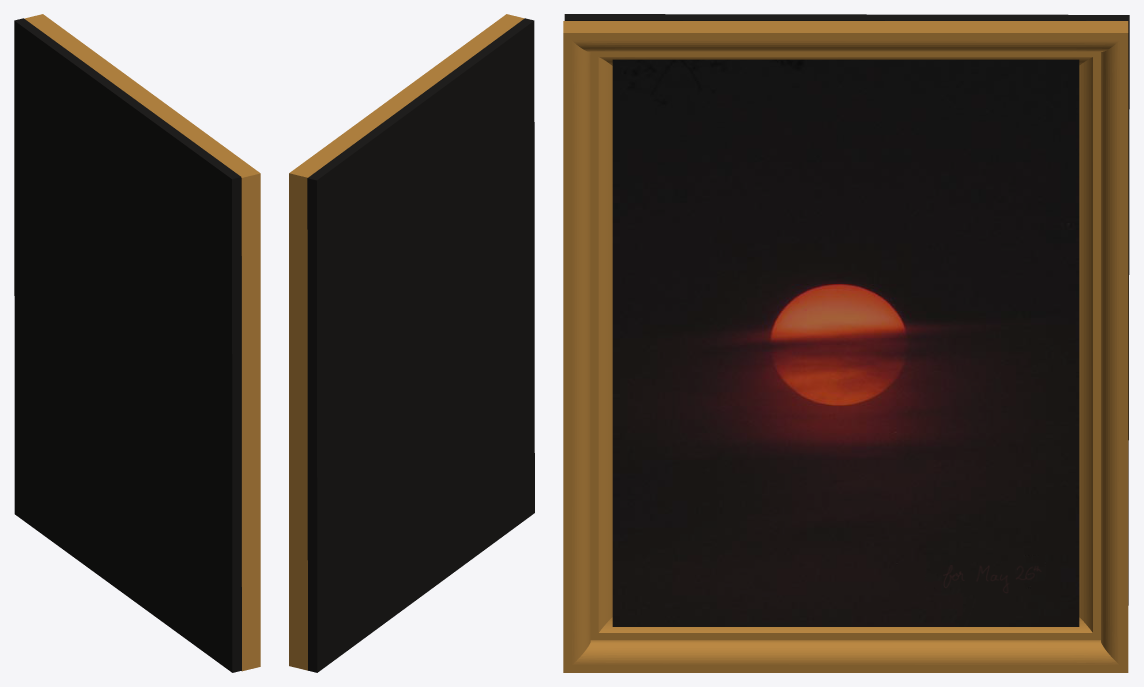
The model's file is sunframe2.glb.
3 renders of one model, left to right at view 1: azimuth 30°, elevation 25°; view 2: azimuth 150°, elevation 25°; view 3: azimuth 270°, elevation 25°, orthographic. The views are drawn at different scales.
Visible parts, largest first — view 1: frame.001_3, back panel.001_2; view 2: frame.001_3, back panel.001_2; view 3: frame.001_3, back panel.001_2.
Part boxes in pixels (left/top/right/bottom): frame.001_3: left=14, top=18, right=241, bottom=672; back panel.001_2: left=24, top=14, right=260, bottom=671; frame.001_3: left=307, top=18, right=534, bottom=672; back panel.001_2: left=289, top=14, right=524, bottom=670; frame.001_3: left=564, top=14, right=1129, bottom=626; back panel.001_2: left=563, top=21, right=1128, bottom=672.
Bounding box in the file's own units: 0.75 × 12.52 × 10.02.
Materials: 3 (1 with a texture image).
